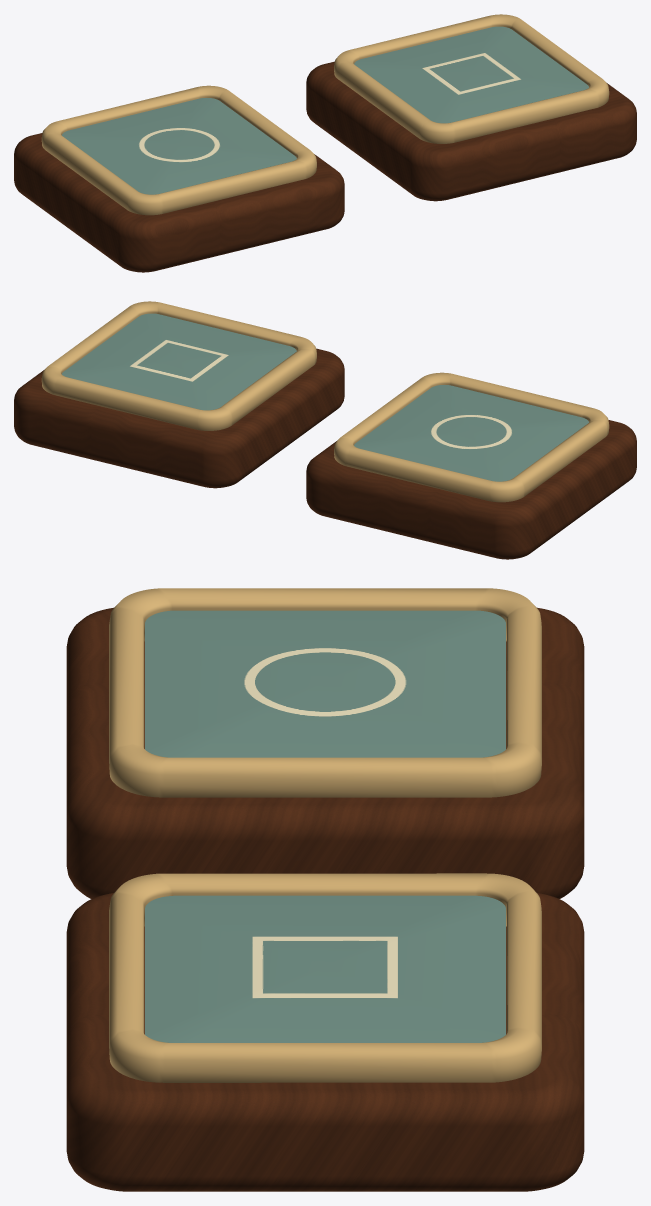
File: cargo_art_03_load_return.glb
The picture shows the model from 3 angles, top to bottom: view 1: azimuth 30°, elevation 25°; view 2: azimuth 150°, elevation 25°; view 3: azimuth 270°, elevation 25°; orthographic projection. The views are drawn at different scales.
Parts seen in each view (by area): view 1: load_wood, return_wood, return_face, load_face, load_bezel, return_bezel; view 2: load_wood, return_wood, return_face, load_face, load_bezel, return_bezel; view 3: return_wood, load_wood, load_face, return_face, load_bezel, return_bezel.
Boxes of the visible parts, x1=… form: load_wood: x1=14, y1=133, x2=344, y2=272; return_wood: x1=306, y1=61, x2=636, y2=201; return_face: x1=354, y1=26, x2=588, y2=123; load_face: x1=62, y1=98, x2=296, y2=194; load_bezel: x1=41, y1=85, x2=316, y2=215; return_bezel: x1=334, y1=14, x2=609, y2=143; load_wood: x1=306, y1=420, x2=636, y2=559; return_wood: x1=14, y1=348, x2=344, y2=488; return_face: x1=62, y1=313, x2=296, y2=410; load_face: x1=354, y1=385, x2=588, y2=481; load_bezel: x1=334, y1=372, x2=609, y2=502; return_bezel: x1=41, y1=301, x2=316, y2=430; return_wood: x1=66, y1=893, x2=584, y2=1191; load_wood: x1=66, y1=607, x2=584, y2=898; load_face: x1=145, y1=610, x2=505, y2=757; return_face: x1=145, y1=895, x2=505, y2=1042; load_bezel: x1=109, y1=588, x2=541, y2=797; return_bezel: x1=109, y1=873, x2=541, y2=1082.
Size of the model in its own units: 0.152 by 0.0183 by 0.066.
Materials: 4 (3 with a texture image).
